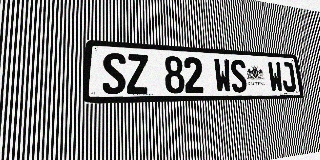2: (184, 57, 204, 93)
8: (164, 56, 185, 93)
J: (280, 62, 296, 92)
S: (102, 52, 126, 94), (230, 59, 248, 93)
W: (213, 58, 232, 93), (267, 61, 284, 92)
Z: (126, 54, 149, 94)
